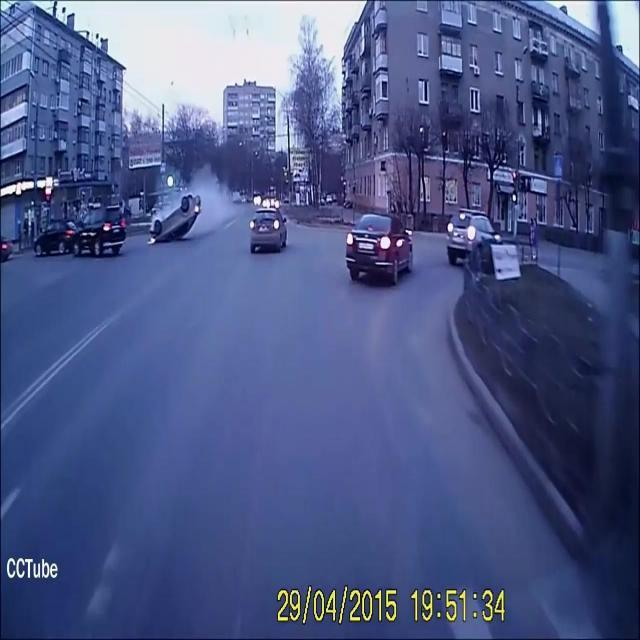normal: (333, 205, 413, 298), (443, 203, 505, 276), (251, 209, 288, 252)
single accident: (134, 191, 209, 247)
